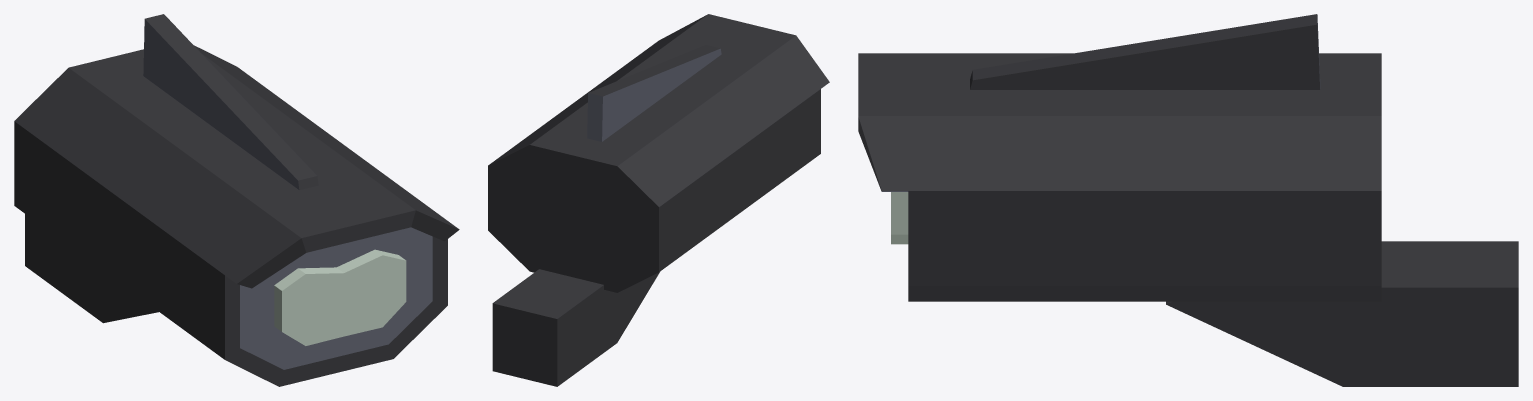
Rendered from Camera.fbx.
3 views of the same model, side by side, from view 1: azimuth 30°, elevation 25°; view 2: azimuth 150°, elevation 25°; view 3: azimuth 270°, elevation 25° (orthographic). The views are drawn at different scales.
Parts seen in each view (by area): view 1: Cube.010, Cube.009; view 2: Cube.010, Cube.009; view 3: Cube.010, Cube.009.
Part boxes in pixels (x1,y1,x2,y2): Cube.010: (14, 14, 459, 386); Cube.009: (25, 214, 158, 323); Cube.010: (488, 14, 829, 292); Cube.009: (492, 269, 659, 386); Cube.010: (858, 14, 1381, 301); Cube.009: (1166, 241, 1518, 386).
Size of the model in its own units: 200 by 262 by 457.
2 materials, 1 textured.
